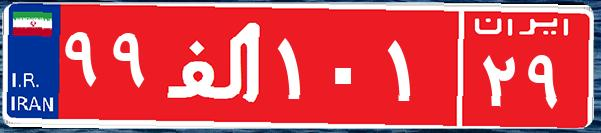0: (330, 28, 385, 110)
1: (385, 28, 445, 110), (273, 28, 330, 110)
2: (475, 38, 525, 113)
9: (57, 26, 110, 107), (110, 28, 158, 105), (525, 38, 570, 115)
الف: (158, 15, 273, 115)
